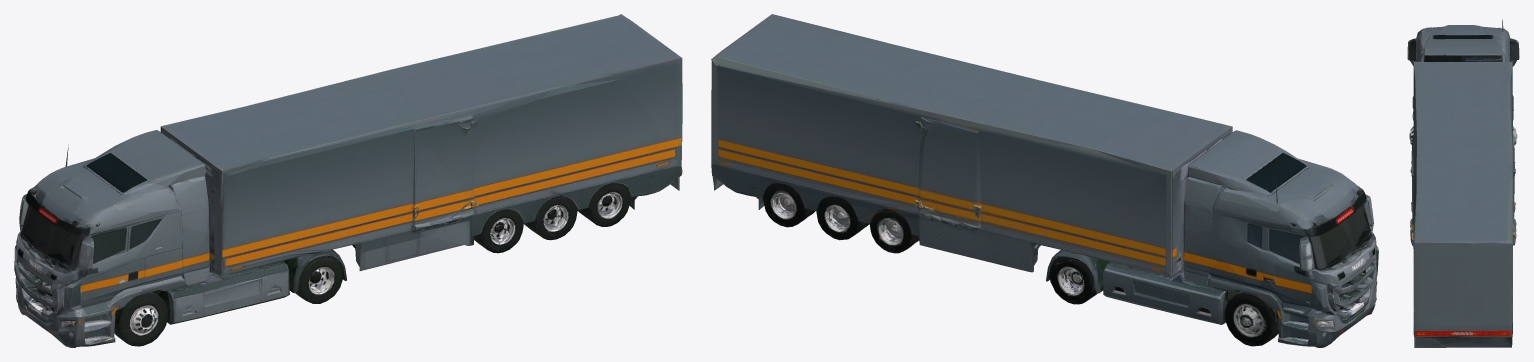
Rendered from traffic_truck.glb.
The picture shows the model from 3 angles, left to right: view 1: azimuth 30°, elevation 25°; view 2: azimuth 150°, elevation 25°; view 3: azimuth 270°, elevation 25°; orthographic projection. The views are drawn at different scales.
Size of the model in its own units: 1.9 by 0.4946 by 0.3695.
Materials: 1 (1 with a texture image).
